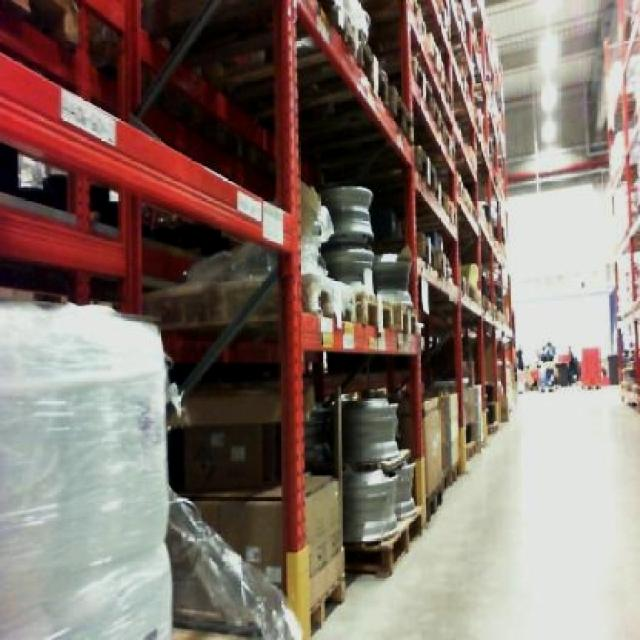pallets: (0, 297, 169, 637)
